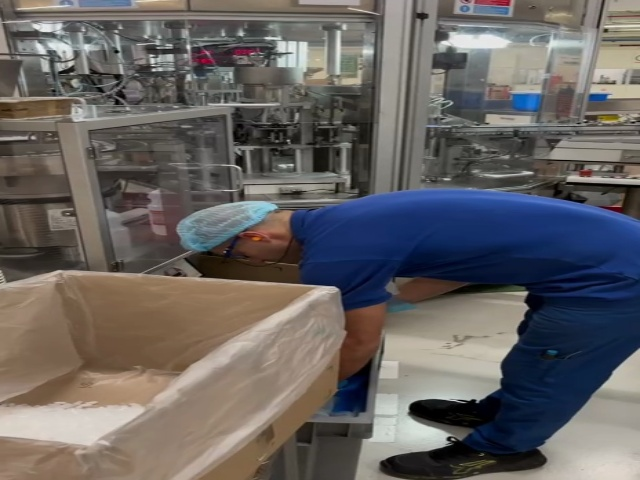Earplug: (238, 232, 274, 243)
Hairnet: (178, 200, 273, 256)
No_Helmet: (176, 198, 279, 253)
No_Vest: (302, 193, 640, 297)
Person: (174, 186, 640, 480)
Safety_Goggles: (209, 224, 248, 266)
